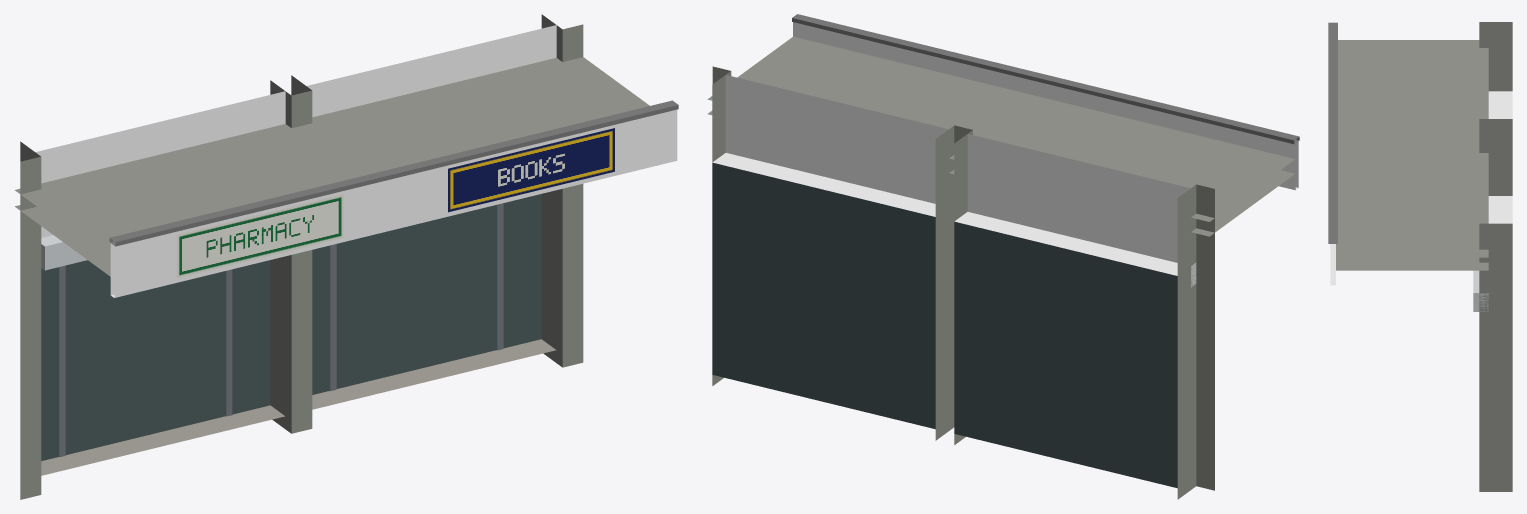
3 views of the same model, side by side, from view 1: azimuth 30°, elevation 25°; view 2: azimuth 150°, elevation 25°; view 3: azimuth 270°, elevation 25° (orthographic). The views are drawn at different scales.
Visible parts, largest first — view 1: a2006/250/base-w2; view 2: a2006/250/base-w2; view 3: a2006/250/base-w2.
Part boxes in pixels (x1=…): a2006/250/base-w2: x1=15, y1=14, x2=678, y2=499; a2006/250/base-w2: x1=707, y1=14, x2=1299, y2=499; a2006/250/base-w2: x1=1328, y1=22, x2=1512, y2=491.
Size of the model in its own units: 5.4 by 3.1 by 1.93.
